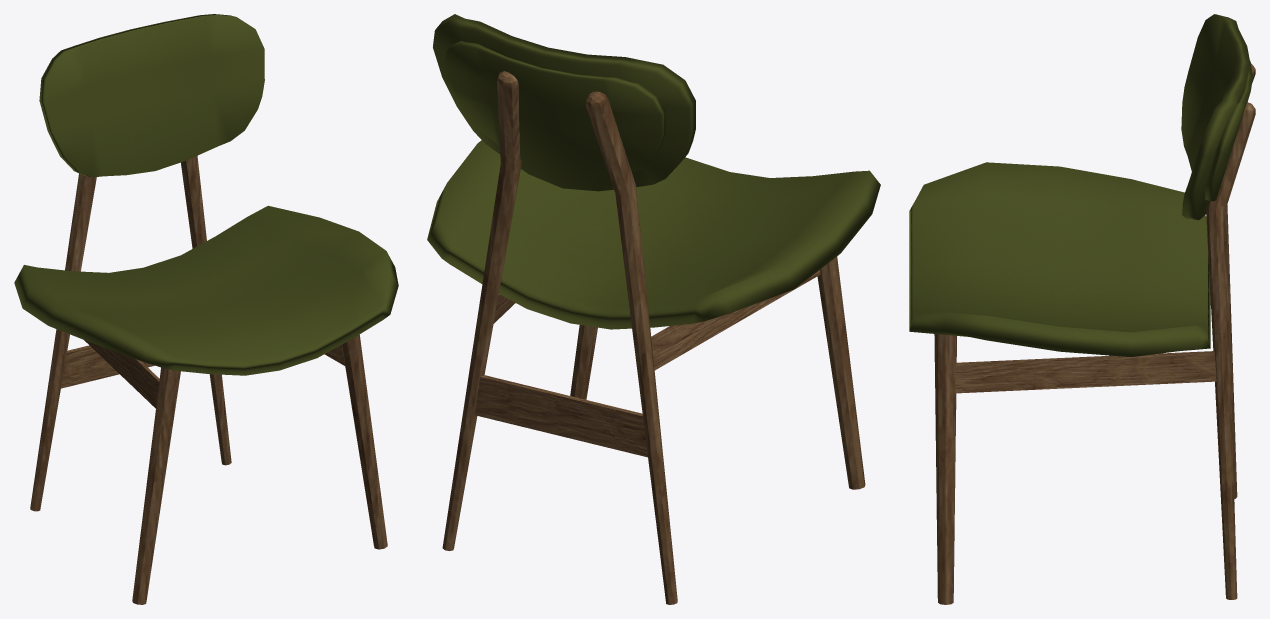
File: LC_3055_chair_h_LOD2.fbx
The picture shows the model from 3 angles, left to right: view 1: azimuth 30°, elevation 25°; view 2: azimuth 150°, elevation 25°; view 3: azimuth 270°, elevation 25°; orthographic projection. The views are drawn at different scales.
Visible parts, largest first — view 1: LC_3055_ch_LOD2; view 2: LC_3055_ch_LOD2; view 3: LC_3055_ch_LOD2.
Part boxes in pixels (box(x1,y1,x2,y2)): LC_3055_ch_LOD2: box(14, 14, 398, 604); LC_3055_ch_LOD2: box(427, 14, 880, 604); LC_3055_ch_LOD2: box(909, 14, 1255, 604).
Bounding box in the file's own units: 52.67 × 71.54 × 45.39.
Materials: 1 (1 with a texture image).
